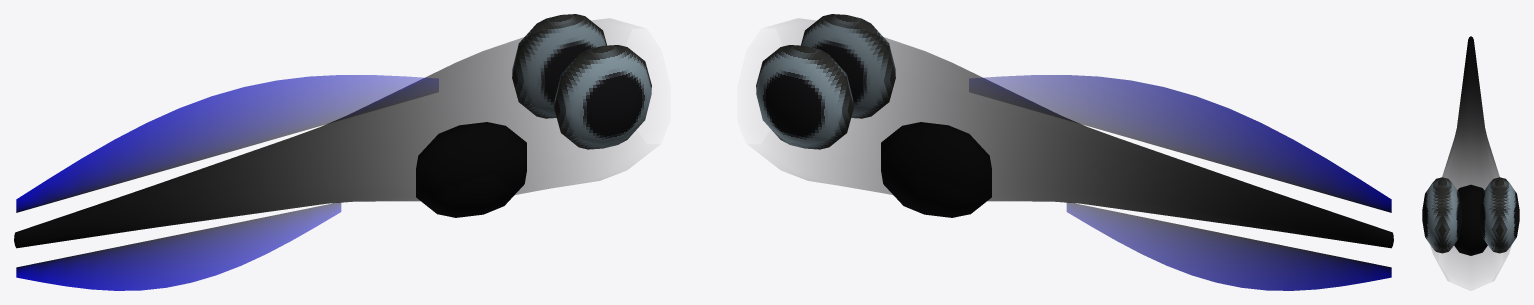
File: brood_tang_larva.glb
3 views of the same model, side by side, from view 1: azimuth 30°, elevation 25°; view 2: azimuth 150°, elevation 25°; view 3: azimuth 270°, elevation 25° (orthographic). The views are drawn at different scales.
Parts seen in each view (by area): view 1: Fold, Eyes, Gut; view 2: Fold, Eyes, Gut; view 3: Fold, Eyes, Gut.
Part boxes in pixels (x1=…): Fold: x1=14, y1=19, x2=631, y2=290; Eyes: x1=512, y1=14, x2=651, y2=149; Gut: x1=416, y1=122, x2=526, y2=217; Fold: x1=776, y1=19, x2=1393, y2=290; Eyes: x1=756, y1=14, x2=895, y2=149; Gut: x1=881, y1=122, x2=991, y2=217; Fold: x1=1431, y1=36, x2=1510, y2=279; Eyes: x1=1422, y1=177, x2=1519, y2=253; Gut: x1=1454, y1=184, x2=1487, y2=255.
Size of the model in its own units: 1.04 by 0.2688 by 0.191.
Materials: 3 (2 with a texture image).
